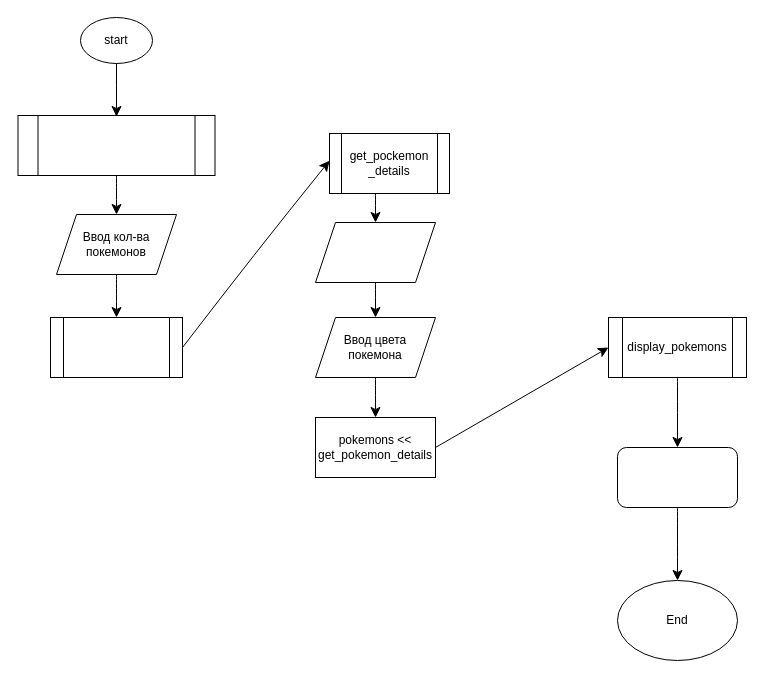
The diagram is 764 pixels wide and 678 high, and some of its shapes have lost their labels. The centre of each missing label's shape, as x and y in pixels:
get_number_of_pokemons: (116,145)
Ввод имени покемона: (375,252)
Вывод массива покемонов: (677,477)
сollect_pokemons: (116,347)
